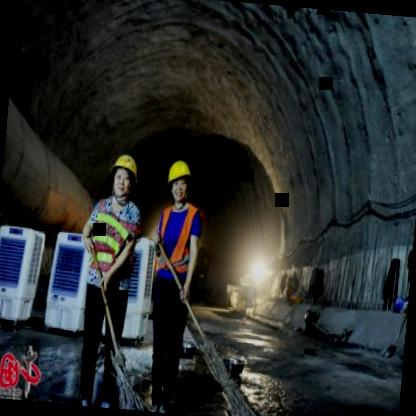helmet: (106, 148, 142, 204), (164, 155, 194, 208)
